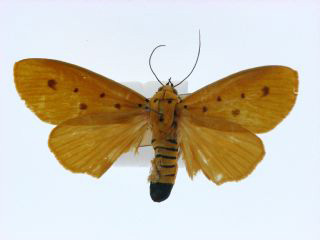Agape chloropyga: (12, 20, 303, 201)
moth: (10, 23, 301, 204)
